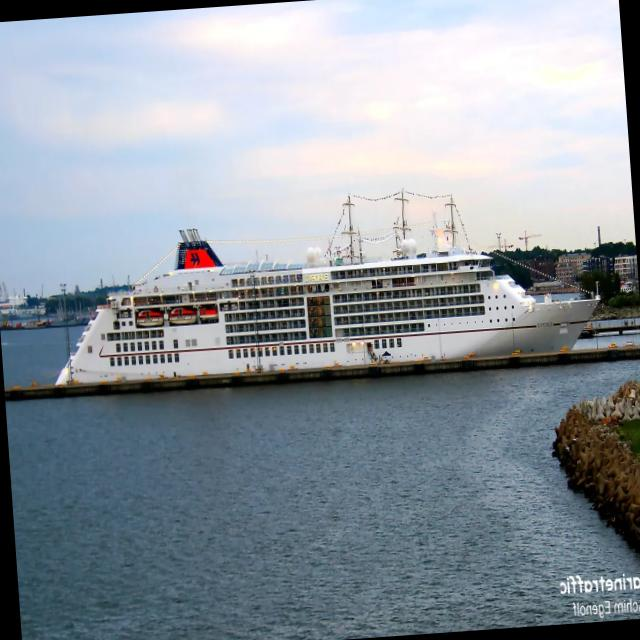Cruise: (56, 229, 596, 384)
